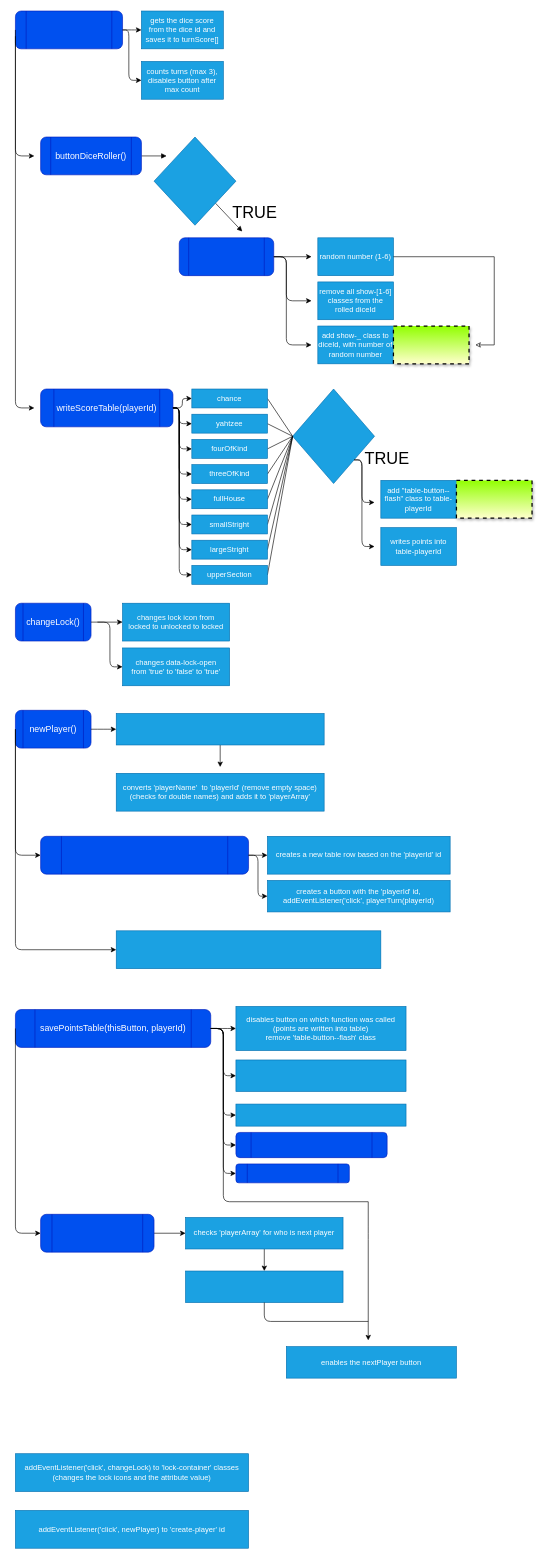
The diagram is 547 pixels wide and 1559 high, and some of its shapes have lost their labels. Here are the shapes that lost their labels. From the top down, the centre of each, then its label:
point (69, 29): playerTurn(playerId)
point (194, 180): checks if the "data-lock-open" attribute is set on the "diceId" id
point (226, 256): diceRoller(diceId)
point (431, 346): changing the class on the dice starts the dice animation
point (333, 436): checks if "turnScore" is enough for "categories" and if they are not disabled
point (494, 500): makes button flash
point (220, 729): prompt user to enter player Name ('playerName')
point (144, 855): createTableRow(playerId, playerName)
point (248, 949): disables all other player buttons exept the first button from the 'playerArray'
point (320, 1075): removes all 'table-button--flash' classes, sets textContent to '---'
point (320, 1114): disables current player button
point (311, 1145): countTableScore(playerId)
point (292, 1173): openLocks
point (97, 1233): nextPlayer(playerId)
point (264, 1286): returns 'playerId' of next player
